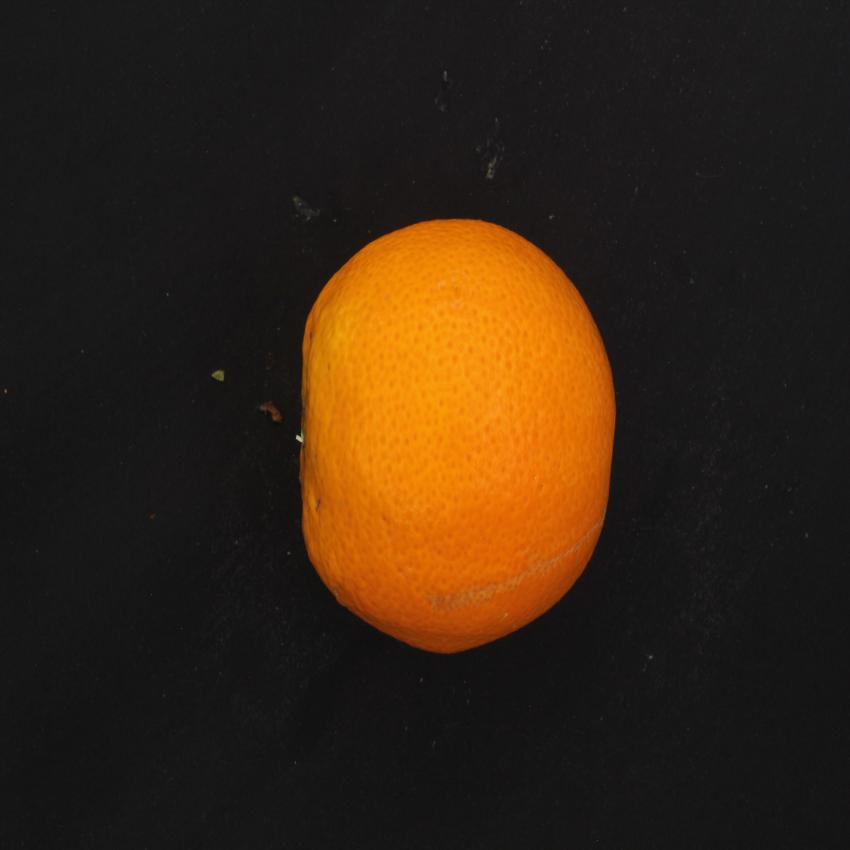Buen estado: (284, 208, 626, 668)
